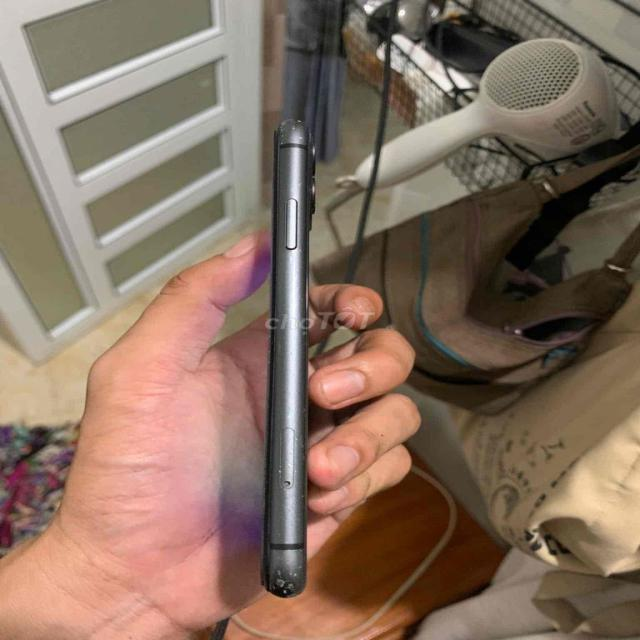scratch: (262, 554, 314, 601), (273, 119, 318, 147), (258, 460, 312, 482), (278, 420, 313, 453), (274, 241, 309, 271), (271, 332, 305, 362), (280, 168, 308, 195), (290, 538, 312, 566), (270, 508, 288, 524), (294, 491, 309, 502), (271, 530, 285, 540)
